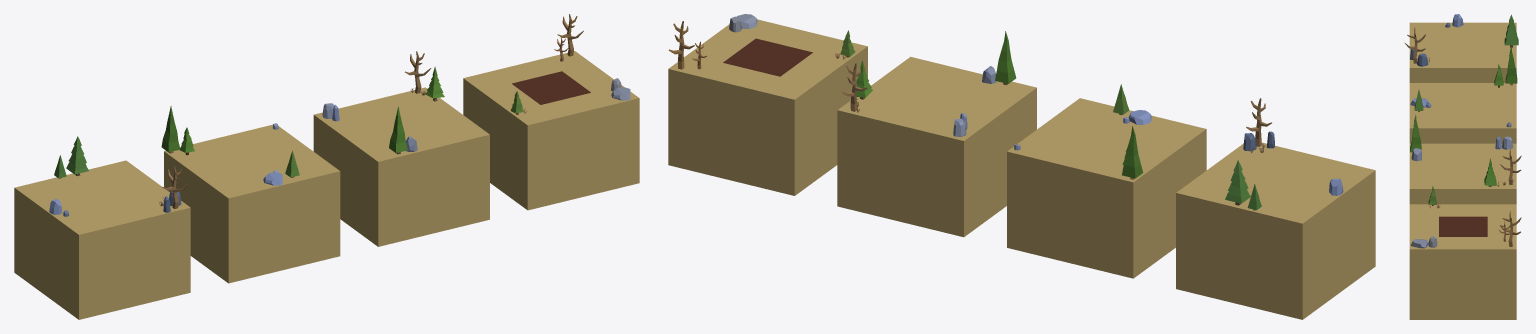
Rendered from zona.fbx.
The picture shows the model from 3 angles, left to right: view 1: azimuth 30°, elevation 25°; view 2: azimuth 150°, elevation 25°; view 3: azimuth 270°, elevation 25°; orthographic projection. The views are drawn at different scales.
Visible parts, largest first — view 1: zona_1, zona_4, zona_2, zona_3, Tree 5, Tree 9, Tree 3; view 2: zona_1, zona_3, zona_2, zona_4, Tree 3, Tree 5, Tree 9; view 3: zona_4, zona_2, zona_3, zona_1, Tree 3, Tree 9, Tree 5, Tree 7, Tree 1, Tree 6.001, Tree 6, rock_15 (+7 smaller).
Boxes of the visible parts, left/top/right/bottom form: zona_1: left=14, top=160, right=190, bottom=319; zona_4: left=463, top=51, right=639, bottom=210; zona_2: left=164, top=124, right=340, bottom=283; zona_3: left=313, top=87, right=489, bottom=246; Tree 5: left=389, top=106, right=407, bottom=154; Tree 9: left=161, top=106, right=180, bottom=153; Tree 3: left=66, top=136, right=88, bottom=176; zona_1: left=1176, top=142, right=1375, bottom=319; zona_3: left=837, top=56, right=1036, bottom=237; zona_2: left=1007, top=98, right=1206, bottom=278; zona_4: left=668, top=19, right=867, bottom=195; Tree 3: left=1225, top=160, right=1250, bottom=205; Tree 5: left=995, top=31, right=1016, bottom=85; Tree 9: left=1122, top=126, right=1143, bottom=179; zona_4: left=1409, top=204, right=1516, bottom=319; zona_2: left=1409, top=83, right=1516, bottom=143; zona_3: left=1409, top=143, right=1516, bottom=204; zona_1: left=1409, top=22, right=1516, bottom=82; Tree 3: left=1504, top=14, right=1518, bottom=47; Tree 9: left=1505, top=46, right=1517, bottom=85; Tree 5: left=1410, top=115, right=1421, bottom=152; Tree 7: left=1404, top=27, right=1425, bottom=63; Tree 1: left=1484, top=158, right=1496, bottom=186; Tree 6.001: left=1500, top=211, right=1521, bottom=246; Tree 6: left=1500, top=149, right=1521, bottom=184; rock_15: left=1410, top=239, right=1428, bottom=248.
Size of the model in its own units: 9181 by 2066 by 2007.
